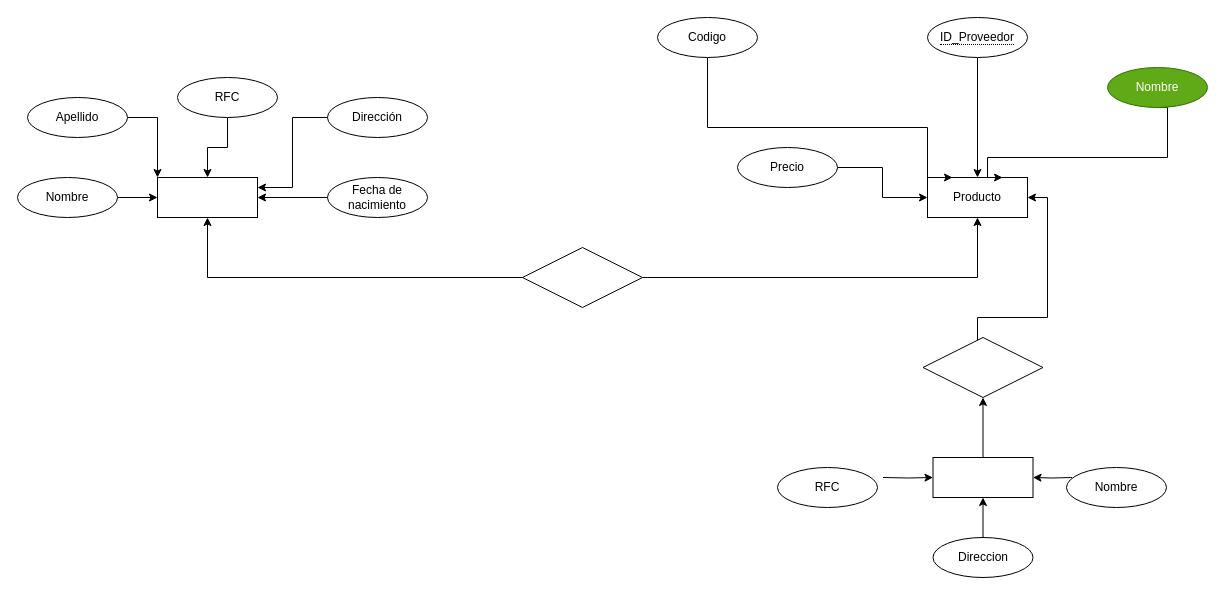
Image size: 1225x595. Some labels were removed from this diagram. The box of each missing label's shape, as (x1, y1, x2, y2) in pixels:
Cliente: (156, 176, 258, 218)
Compra: (522, 246, 642, 308)
Proveedor: (932, 456, 1033, 498)
Suministrar: (922, 336, 1043, 398)
